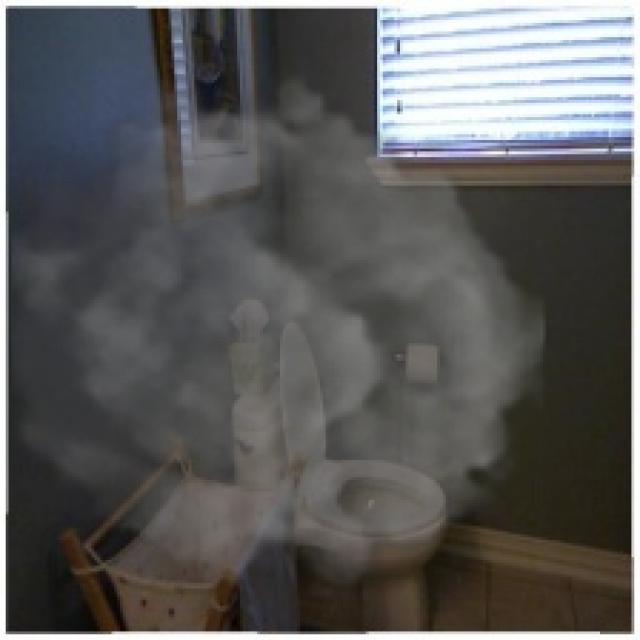smoke: (11, 54, 546, 612)
